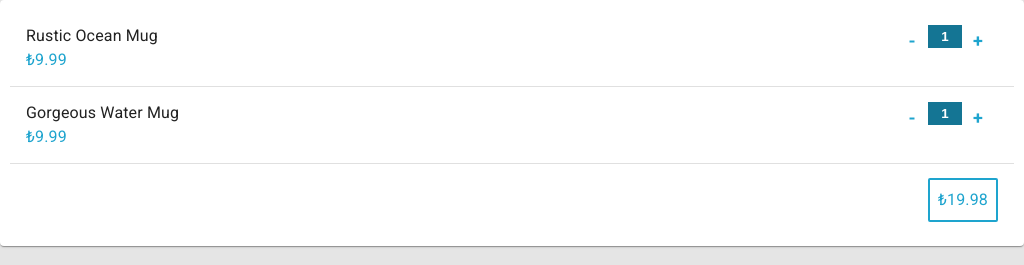
Scenario: Cart component test › Decrease item count
Click the button with test id "inc-button" in the row of "Rustic Ocean Mug".
click(978, 40)  # box [973, 30, 983, 51]
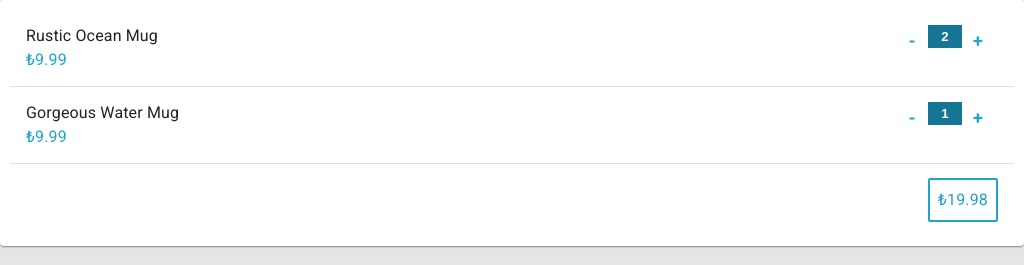
Click the button with test id "inc-button" in the row of "Rustic Ocean Mug".
click(978, 40)  # box [973, 30, 983, 51]
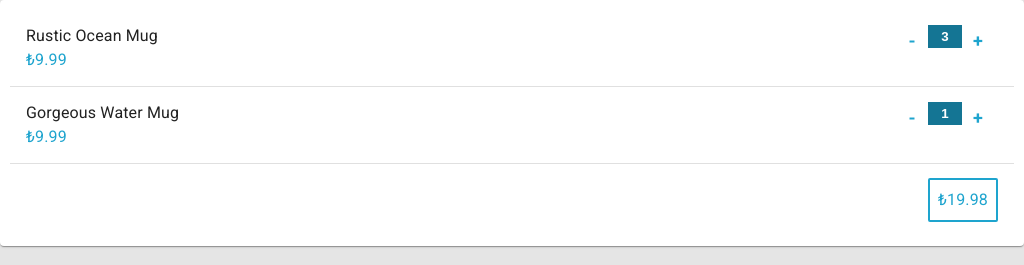
Click the button with test id "dec-button" in the row of "Rustic Ocean Mug".
click(912, 40)  # box [908, 30, 916, 51]
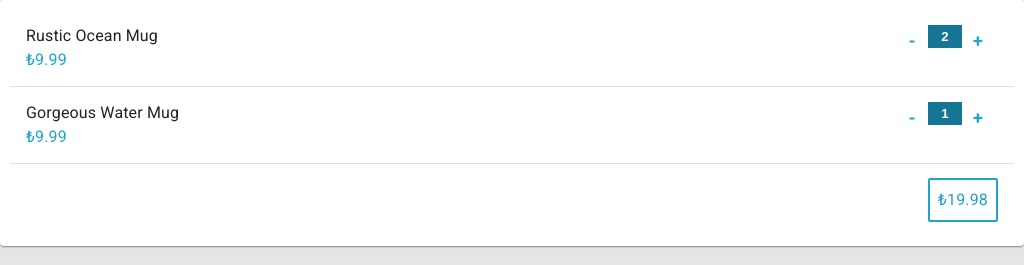
Expected: the number field with test id "cart-item-value" in the row of "Rustic Ocean Mug" holds "2", [928, 25, 962, 48]
